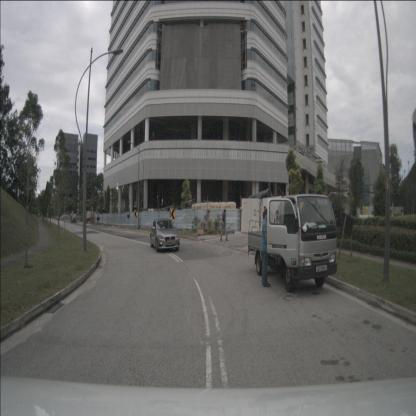human-pedestrian-adult: (260, 209, 270, 287), (272, 209, 280, 252), (220, 209, 228, 242), (262, 206, 268, 235)
vehicle-car: (150, 218, 180, 253), (70, 214, 76, 224)
vehicle-truck: (248, 194, 337, 292)
